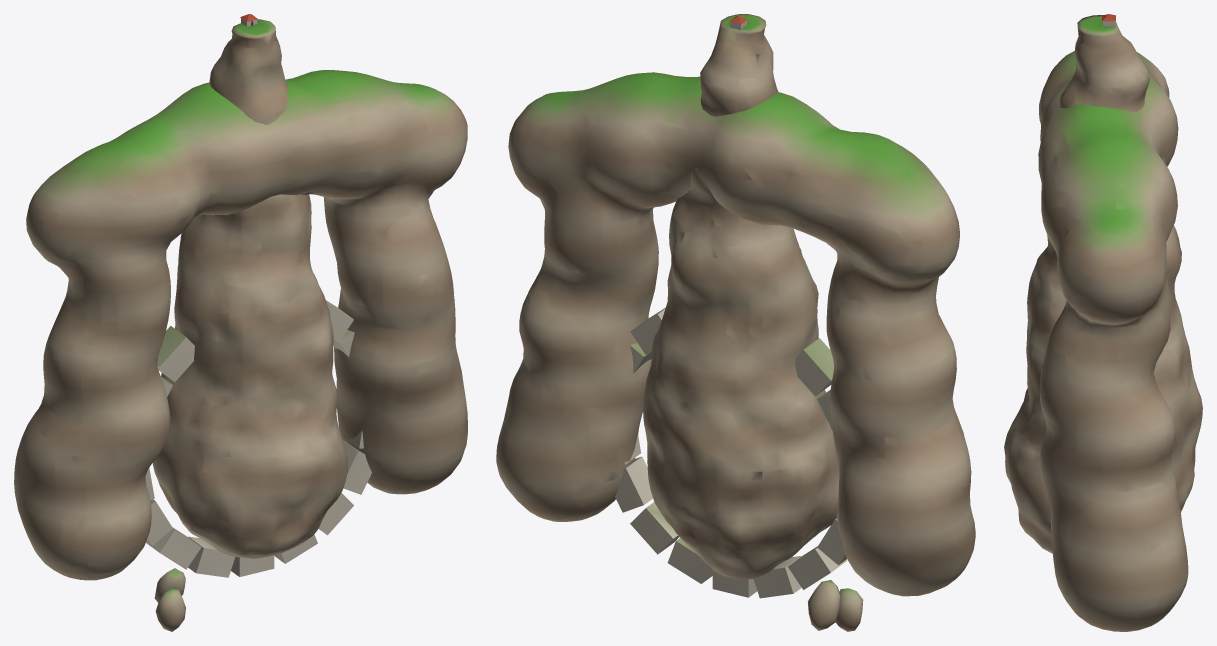
Rendered from architecture.glb.
3 renders of one model, left to right at view 1: azimuth 30°, elevation 25°; view 2: azimuth 150°, elevation 25°; view 3: azimuth 270°, elevation 25°, orthographic. The views are drawn at different scales.
Parts seen in each view (by area): view 1: arch_lod0, needle_lod0, ring_lod0; view 2: arch_lod0, needle_lod0, ring_lod0; view 3: arch_lod0, needle_lod0.
Part boxes in pixels (<box>): arch_lod0: <box>14,70,467,580</box>; needle_lod0: <box>152,14,348,558</box>; ring_lod0: <box>145,300,371,631</box>; arch_lod0: <box>496,72,975,596</box>; needle_lod0: <box>643,14,839,578</box>; ring_lod0: <box>615,307,863,631</box>; arch_lod0: <box>1038,51,1188,631</box>; needle_lod0: <box>1004,14,1202,553</box>.
Size of what is drawn, in the model's own units: 259 by 329 by 99.02.
